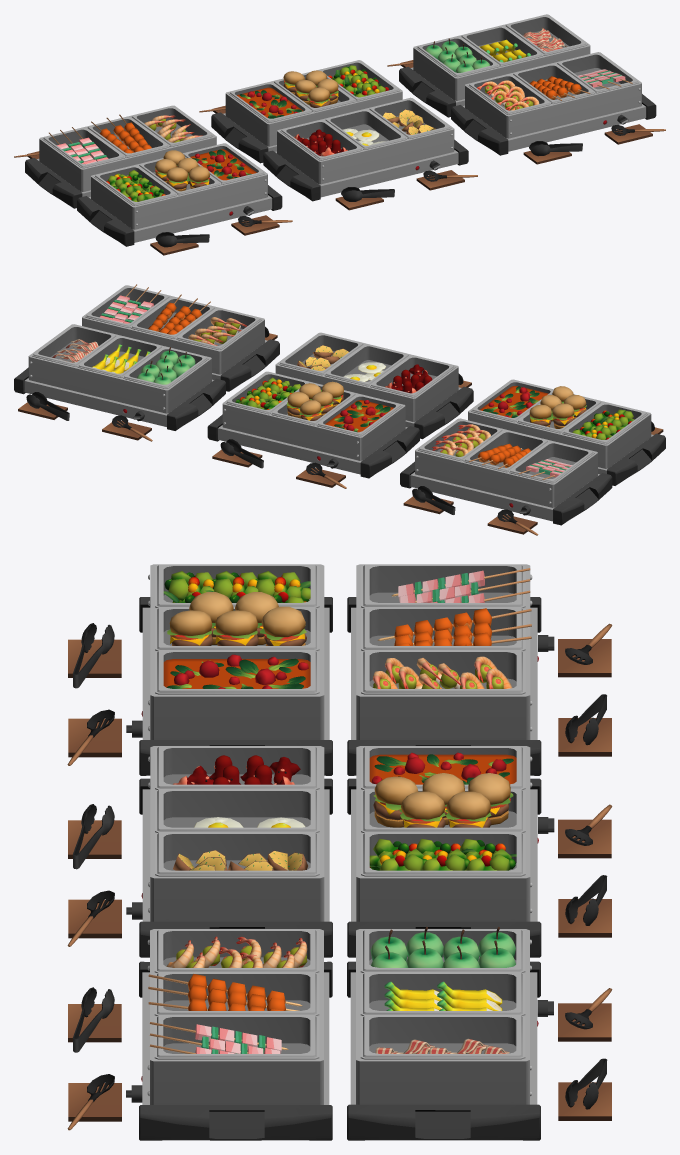
The model's file is CR_caf_Food_001.FBX.
3 renders of one model, top to bottom at view 1: azimuth 30°, elevation 25°; view 2: azimuth 150°, elevation 25°; view 3: azimuth 270°, elevation 25°, orthographic. The views are drawn at different scales.
Parts seen in each view (by area): view 1: CR_caf_Food_001; view 2: CR_caf_Food_001; view 3: CR_caf_Food_001.
Boxes of the visible parts, x1,y1,x2,y2 form: CR_caf_Food_001: [14, 14, 665, 255]; CR_caf_Food_001: [14, 284, 665, 535]; CR_caf_Food_001: [67, 564, 612, 1140].
Size of the model in its own units: 288 by 24.57 by 126.
